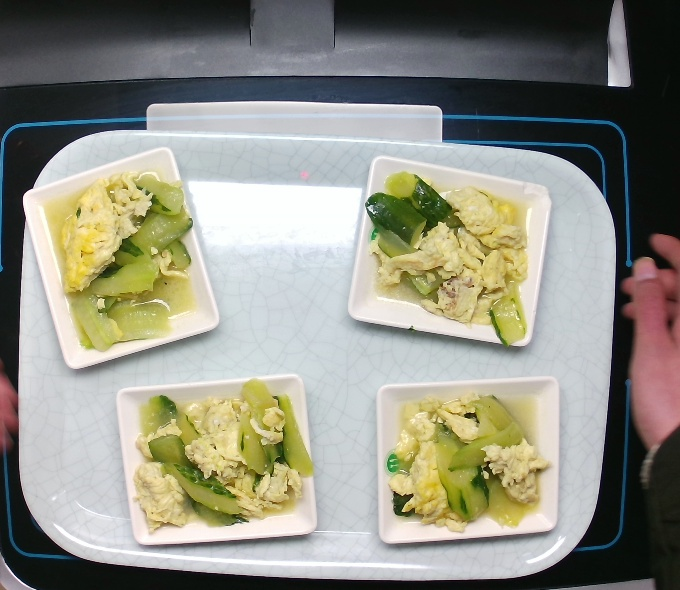wcq-DanHuangHuangGua: (357, 165, 539, 352), (125, 378, 313, 538), (37, 169, 198, 351), (383, 380, 559, 533)
